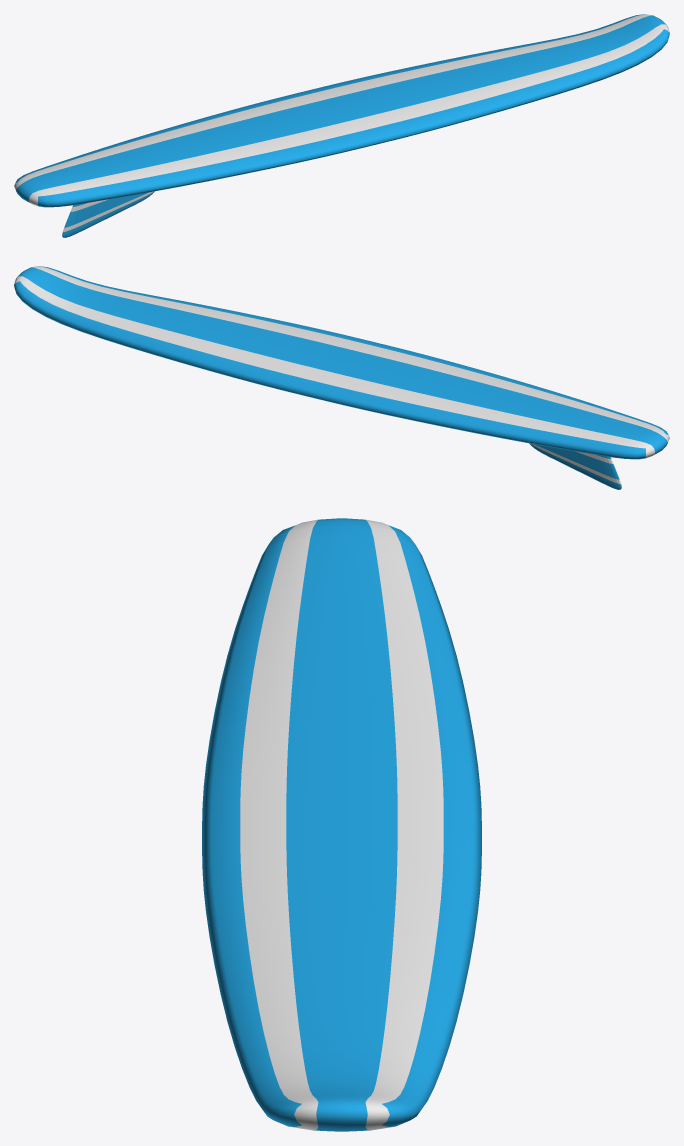
The model's file is surfingBoardBlue.fbx.
The picture shows the model from 3 angles, top to bottom: view 1: azimuth 30°, elevation 25°; view 2: azimuth 150°, elevation 25°; view 3: azimuth 270°, elevation 25°; orthographic projection. The views are drawn at different scales.
Visible parts, largest first — view 1: Surf; view 2: Surf; view 3: Surf.
Boxes of the visible parts, x1,y1,x2,y2 form: Surf: [14, 14, 669, 237]; Surf: [14, 266, 669, 489]; Surf: [202, 518, 481, 1131].
Size of the model in its own units: 638 by 71 by 121.
